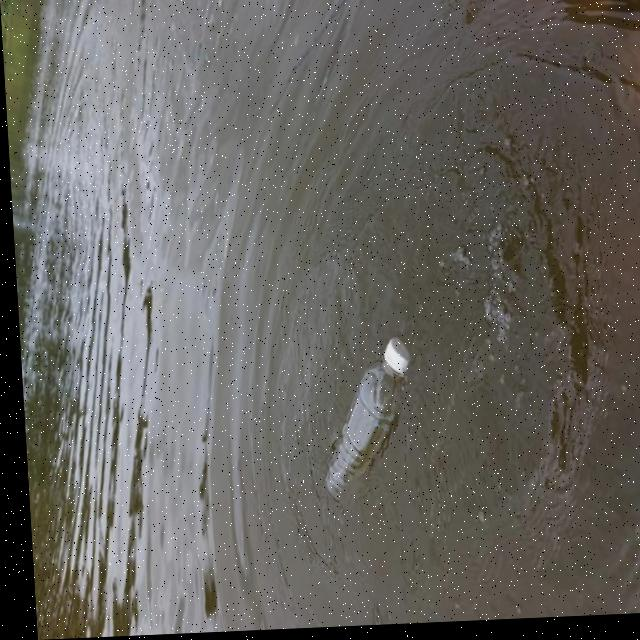waterbottle: (300, 334, 431, 512)
